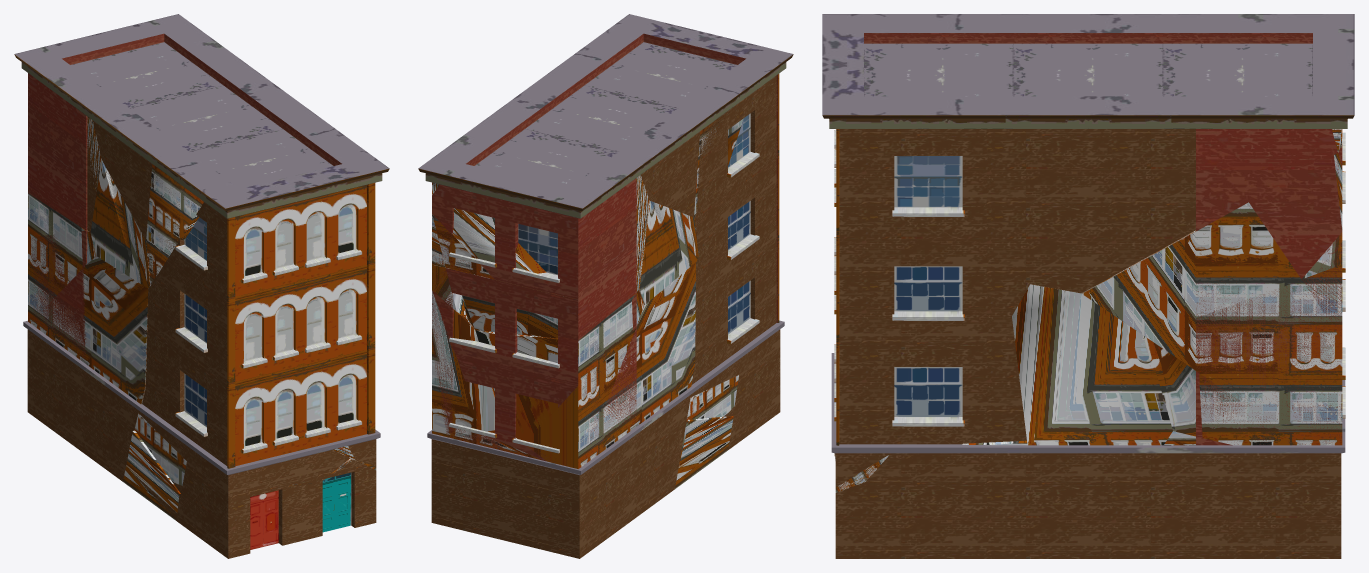
Rendered from A10_Destr.FBX.
3 views of the same model, side by side, from view 1: azimuth 30°, elevation 25°; view 2: azimuth 150°, elevation 25°; view 3: azimuth 270°, elevation 25° (orthographic). The views are drawn at different scales.
Visible parts, largest first — view 1: K_Building_A10_00_Part_2, K_Building_A10_00_Part_6, K_Building_A10_00_Part_14, K_Building_A10_00_Part_15, K_Building_A10_00_Part_13, K_Building_A10_00_Part_3, K_Building_A10_00_Part_12, K_Building_A10_00_Part_10, K_Building_A10_00_Part_8, K_Building_A10_00_Part_1, K_Building_A10_00_Part_9, K_Building_A10_00_Part_4; view 2: K_Building_A10_00_Part_3, K_Building_A10_00_Part_6, K_Building_A10_00_Part_2, K_Building_A10_00_Part_15, K_Building_A10_00_Part_8, K_Building_A10_00_Part_9, K_Building_A10_00_Part_14, K_Building_A10_00_Part_5, K_Building_A10_00_Part_12, K_Building_A10_00_Part_1, K_Building_A10_00_Part_10, K_Building_A10_00_Part_4; view 3: K_Building_A10_00_Part_6, K_Building_A10_00_Part_13, K_Building_A10_00_Part_1, K_Building_A10_00_Part_11, K_Building_A10_00_Part_5, K_Building_A10_00_Part_4, K_Building_A10_00_Part_7, K_Building_A10_00_Part_2, K_Building_A10_00_Part_3, K_Building_A10_00_Part_12, K_Building_A10_00_Part_9.
Part boxes in pixels (left/top/right/bottom): K_Building_A10_00_Part_2: left=140, top=144, right=389, bottom=362; K_Building_A10_00_Part_6: left=82, top=14, right=354, bottom=239; K_Building_A10_00_Part_14: left=155, top=295, right=355, bottom=485; K_Building_A10_00_Part_15: left=24, top=256, right=148, bottom=481; K_Building_A10_00_Part_13: left=283, top=143, right=380, bottom=469; K_Building_A10_00_Part_3: left=14, top=18, right=162, bottom=232; K_Building_A10_00_Part_12: left=122, top=375, right=376, bottom=532; K_Building_A10_00_Part_10: left=176, top=442, right=322, bottom=558; K_Building_A10_00_Part_8: left=23, top=193, right=95, bottom=325; K_Building_A10_00_Part_1: left=90, top=160, right=150, bottom=288; K_Building_A10_00_Part_9: left=27, top=352, right=62, bottom=437; K_Building_A10_00_Part_4: left=145, top=286, right=162, bottom=387; K_Building_A10_00_Part_3: left=432, top=159, right=650, bottom=340; K_Building_A10_00_Part_6: left=418, top=39, right=708, bottom=217; K_Building_A10_00_Part_2: left=599, top=14, right=793, bottom=258; K_Building_A10_00_Part_15: left=562, top=262, right=695, bottom=532; K_Building_A10_00_Part_8: left=473, top=290, right=644, bottom=474; K_Building_A10_00_Part_9: left=431, top=429, right=615, bottom=558; K_Building_A10_00_Part_14: left=703, top=216, right=784, bottom=352; K_Building_A10_00_Part_5: left=427, top=290, right=503, bottom=440; K_Building_A10_00_Part_12: left=675, top=328, right=743, bottom=488; K_Building_A10_00_Part_1: left=432, top=201, right=698, bottom=318; K_Building_A10_00_Part_10: left=728, top=339, right=780, bottom=449; K_Building_A10_00_Part_4: left=563, top=256, right=710, bottom=360; K_Building_A10_00_Part_6: left=910, top=14, right=1354, bottom=293; K_Building_A10_00_Part_13: left=831, top=112, right=1029, bottom=492; K_Building_A10_00_Part_1: left=1082, top=153, right=1342, bottom=404; K_Building_A10_00_Part_11: left=1012, top=284, right=1172, bottom=558; K_Building_A10_00_Part_5: left=1146, top=265, right=1345, bottom=464; K_Building_A10_00_Part_4: left=866, top=316, right=1040, bottom=558; K_Building_A10_00_Part_7: left=1088, top=431, right=1311, bottom=558; K_Building_A10_00_Part_2: left=822, top=14, right=1035, bottom=187; K_Building_A10_00_Part_3: left=1184, top=14, right=1354, bottom=203; K_Building_A10_00_Part_12: left=835, top=482, right=969, bottom=558; K_Building_A10_00_Part_9: left=1269, top=373, right=1345, bottom=558.
Size of the model in its own units: 671 by 1388 by 1492.
